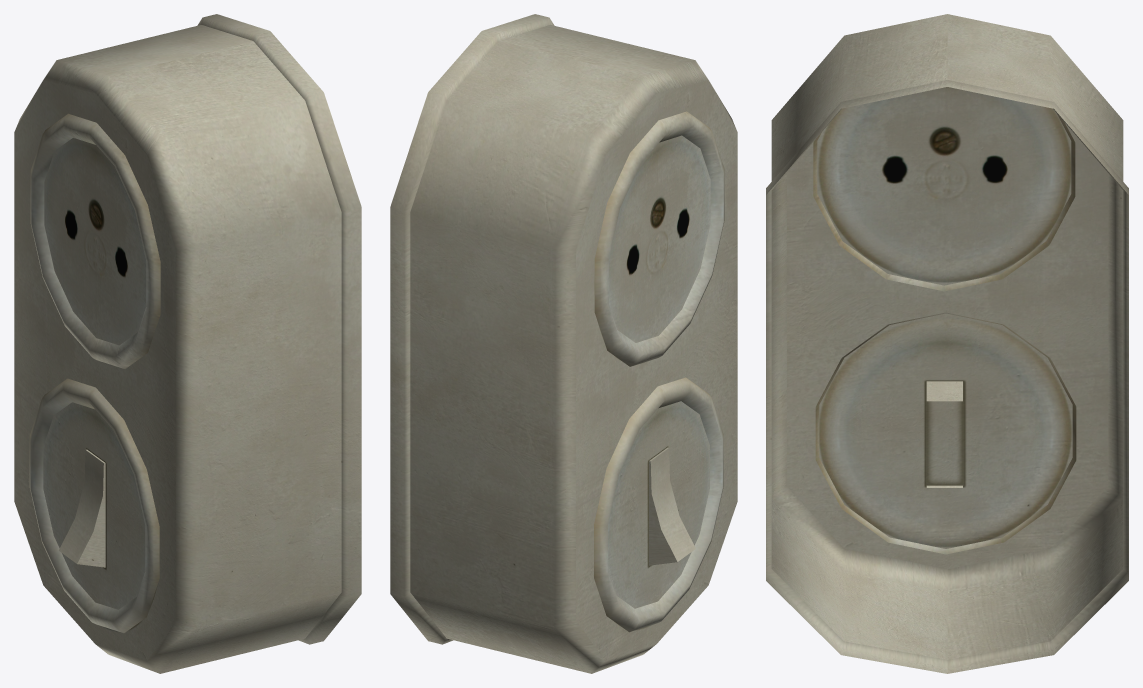
Rendered from Socket_Switch.fbx.
The picture shows the model from 3 angles, left to right: view 1: azimuth 30°, elevation 25°; view 2: azimuth 150°, elevation 25°; view 3: azimuth 270°, elevation 25°; orthographic projection.
Visible parts, largest first — view 1: Socket_Switch; view 2: Socket_Switch; view 3: Socket_Switch.
Boxes of the visible parts, <box> form: Socket_Switch: <box>14,14,361,673</box>; Socket_Switch: <box>390,14,737,673</box>; Socket_Switch: <box>766,14,1128,673</box>.
Size of the model in its own units: 0.0748 by 0.2068 by 0.1159.
